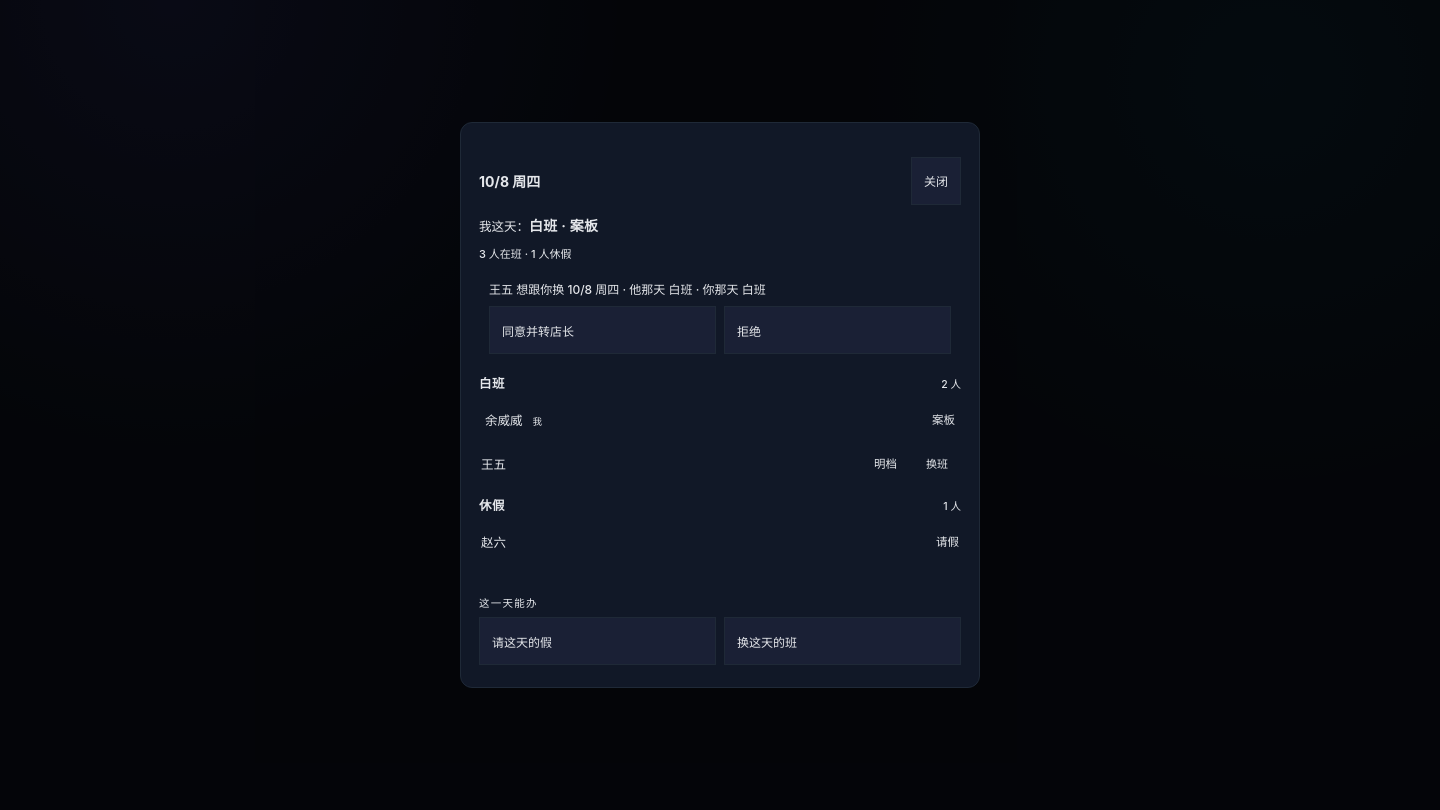
it: 别人找我换这天的班：在这一屏就能回话（票 09 的验收 2） › 那天有人问我：先说清谁的哪天，同意就发 accept
Check: the element with class "ds-ask" shows "王五 想跟你换 10/8 周四", box [489,282,766,297]
Click the button "同意并转店长" at {"x": 602, "y": 330}, box [489,306,716,354]
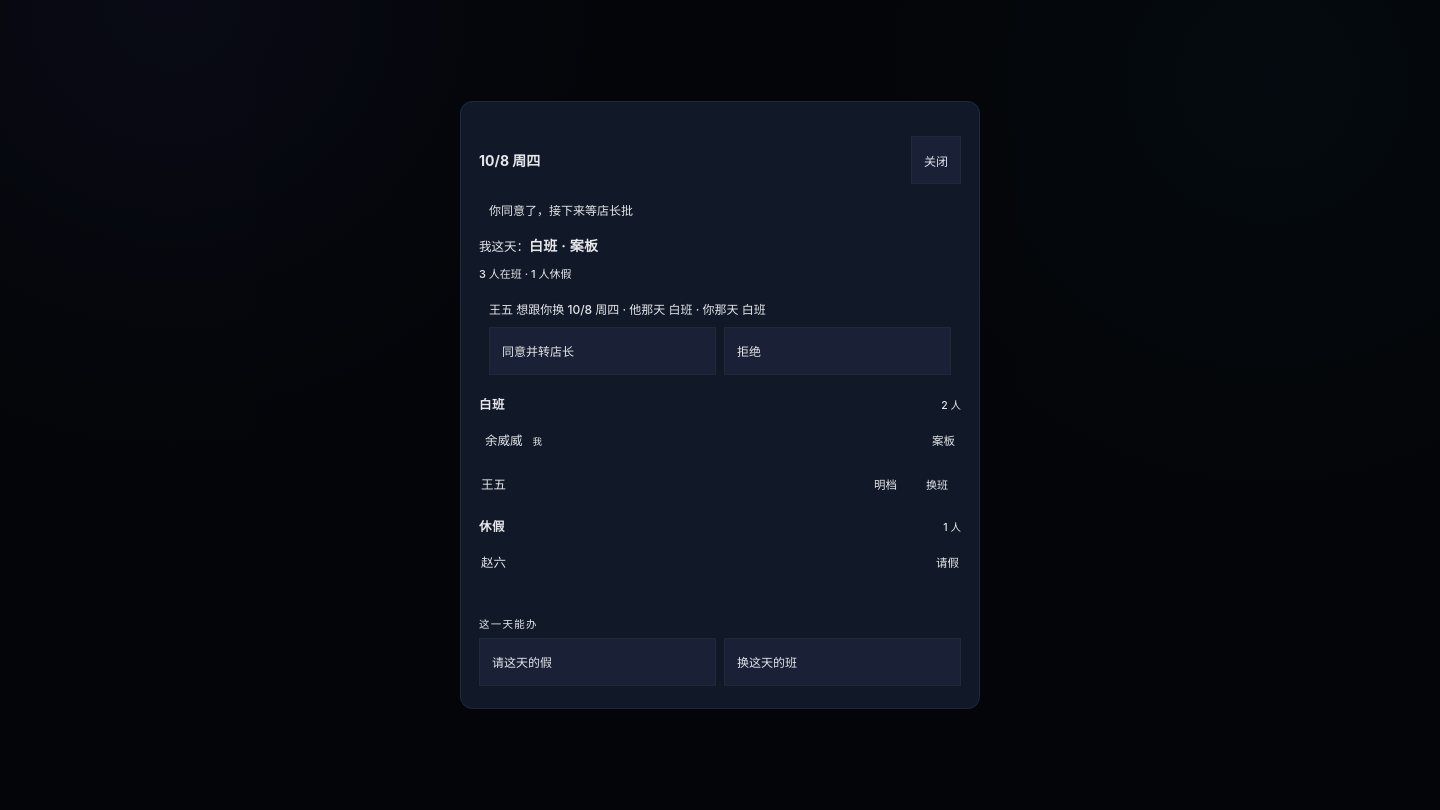
Check: the text "你同意了，接下来等店长批" is shown, box [489,203,633,218]
